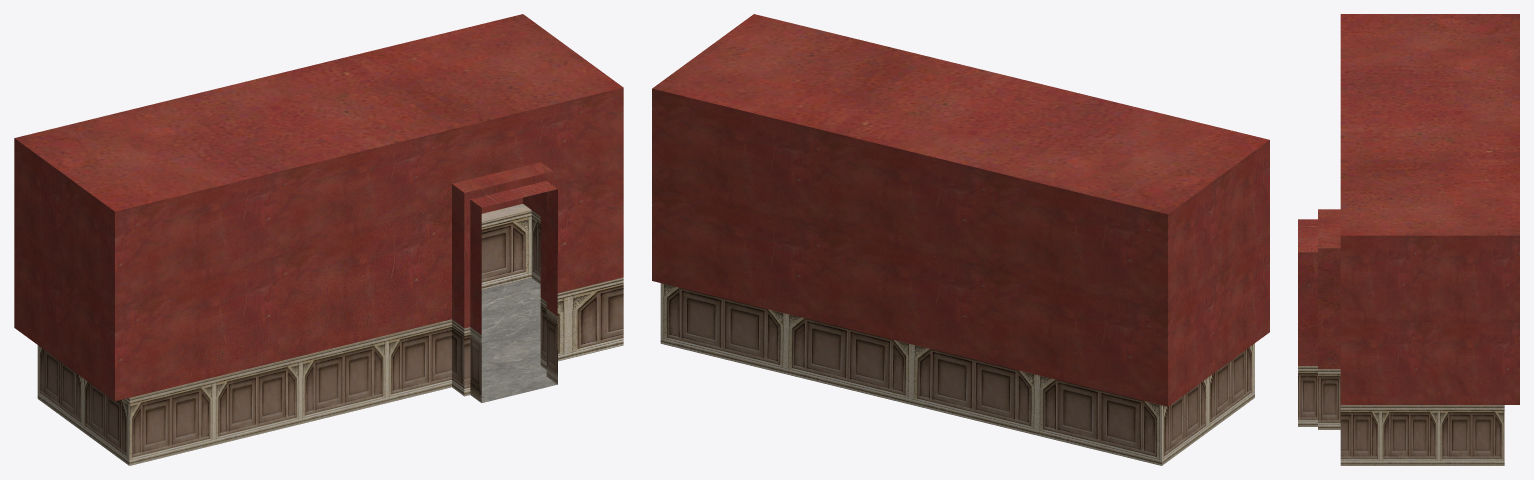
The model's file is thm_nboo_block_bldg_32x16_s02_r1_foyer1_r1_mesh.fbx.
3 views of the same model, side by side, from view 1: azimuth 30°, elevation 25°; view 2: azimuth 150°, elevation 25°; view 3: azimuth 270°, elevation 25° (orthographic). The views are drawn at different scales.
Parts seen in each view (by area): view 1: mesh_node; view 2: mesh_node; view 3: mesh_node.
Part boxes in pixels (x1,y1,x2,y2): mesh_node: [14, 14, 623, 465]; mesh_node: [652, 14, 1269, 465]; mesh_node: [1298, 14, 1519, 465].
Size of the model in its own units: 8.6 by 4.16 by 3.64.
